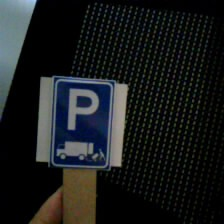load: (39, 65, 124, 172)
